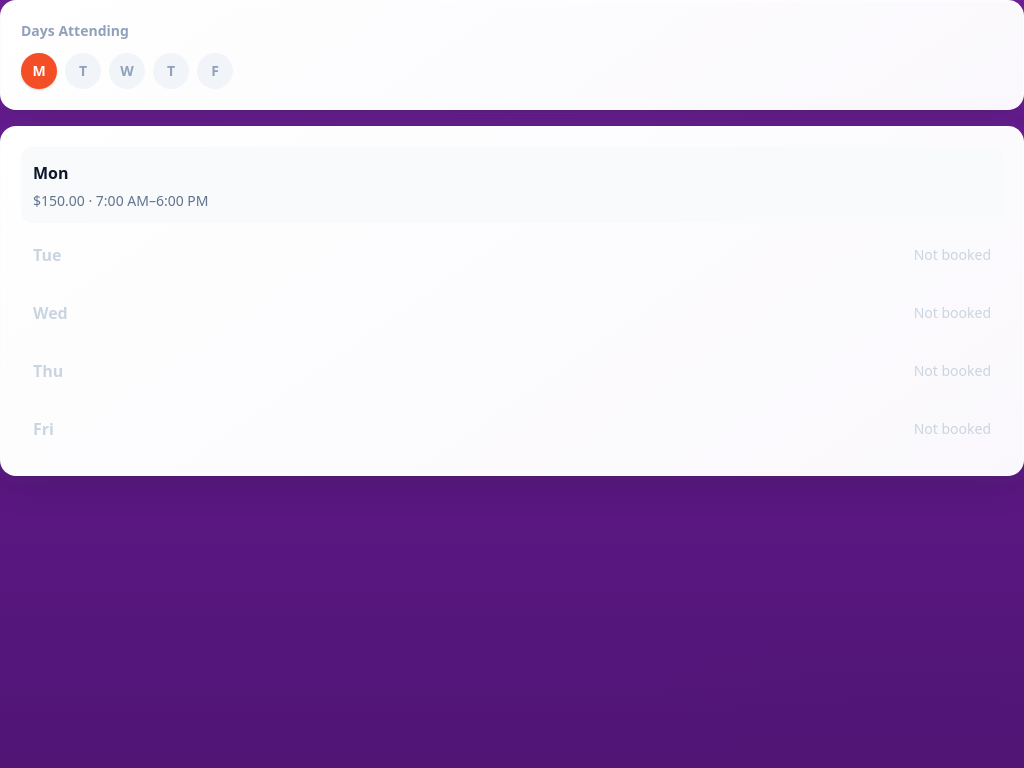
it: FortnightlyGrid uniform sessions › opens the per-day editor when sessions are not uniform
Click the button "Mon $150.00 · 7:00 AM–6:00 PM".
click(51, 173)  # box 21,147 -> 1003,223
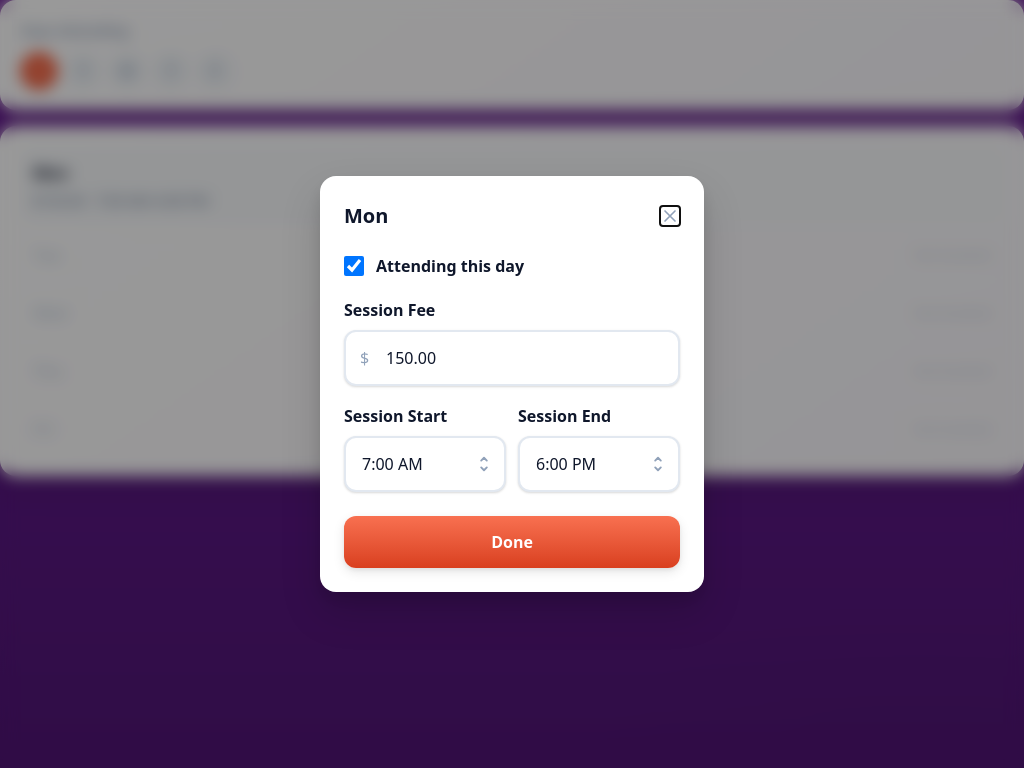
Result: the dialog is shown at 320,176 -> 704,592
